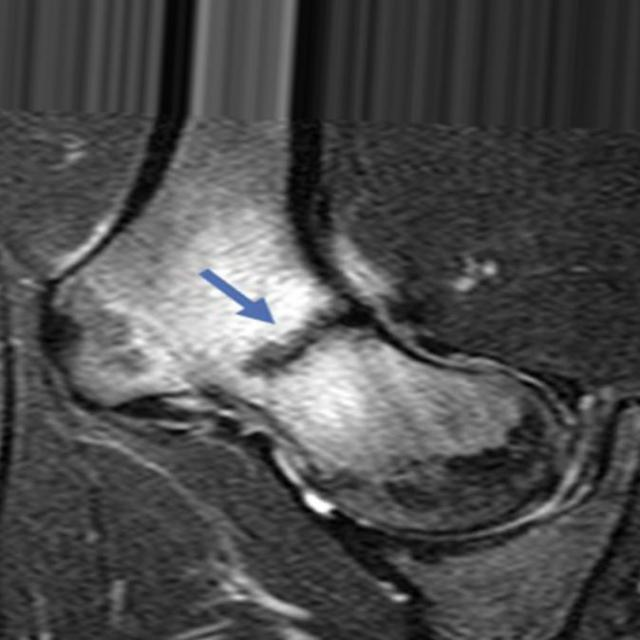Transverse Displaced: (217, 294, 394, 386)
